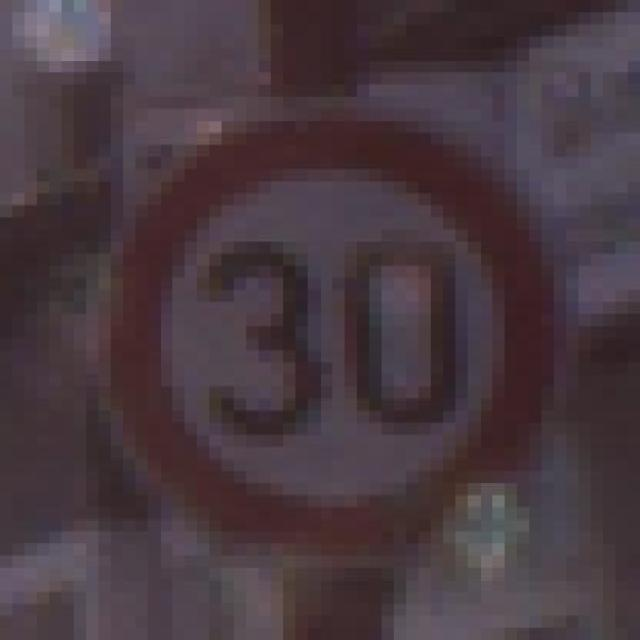Speed Limit 30 KMPh: (49, 97, 591, 568)
